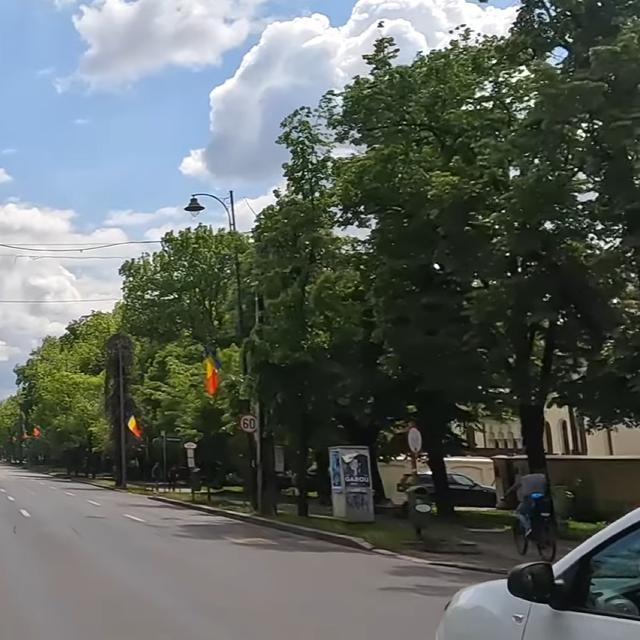forb_speed_over_60: (240, 414, 259, 434)
